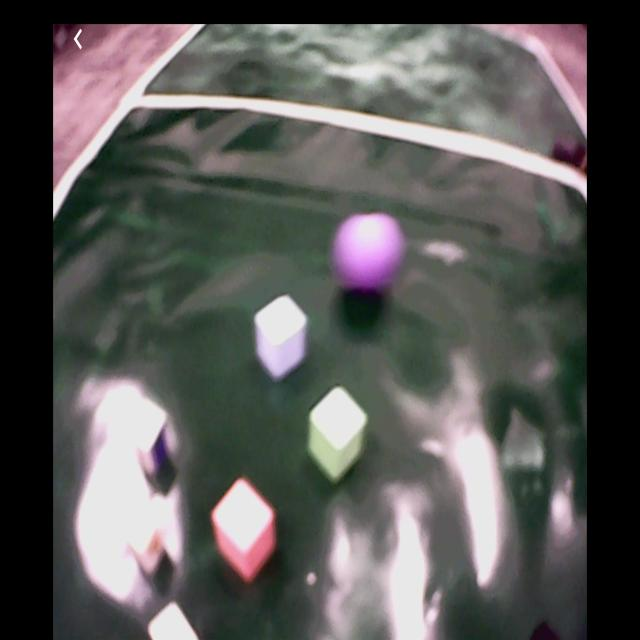ball: (343, 204, 396, 294)
